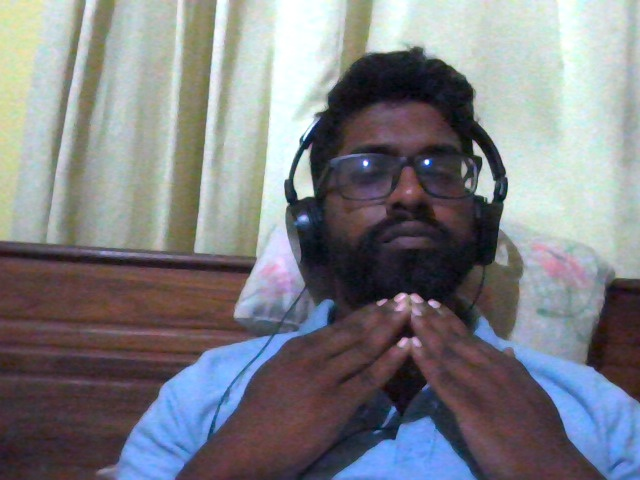Thank you: (190, 245, 597, 480)
